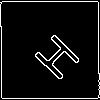H: (25, 25, 83, 83)
